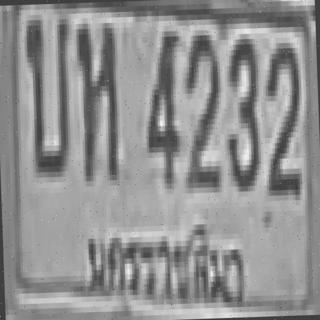A26: (22, 9, 72, 172)
A41: (73, 18, 117, 176)
N02: (180, 30, 222, 188), (260, 37, 301, 190)
N03: (221, 33, 259, 187)
N04: (142, 26, 181, 184)
P30: (78, 205, 254, 319)
